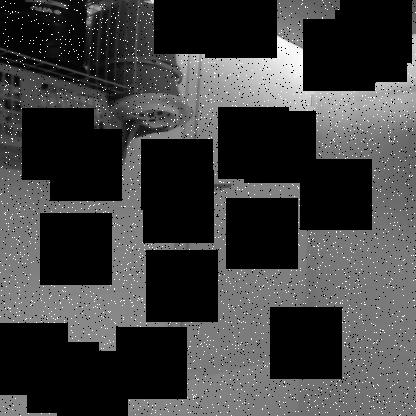Porte: (162, 1, 319, 387)
